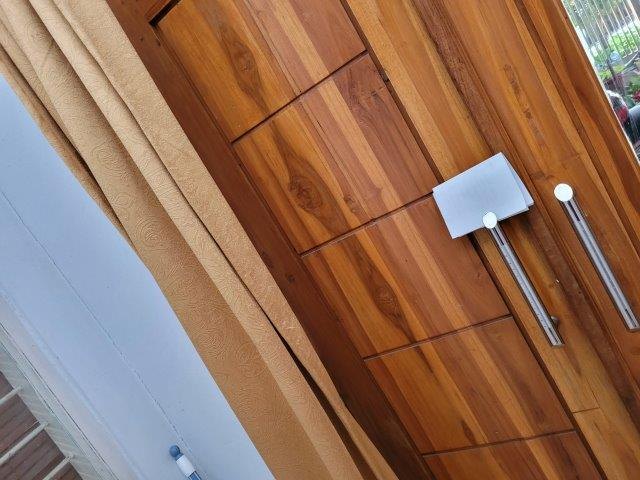kertas: (432, 150, 536, 240)
